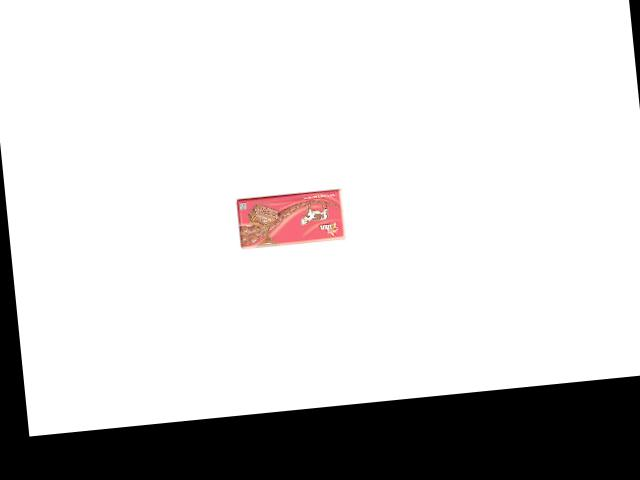chocolate: (232, 182, 349, 251)
